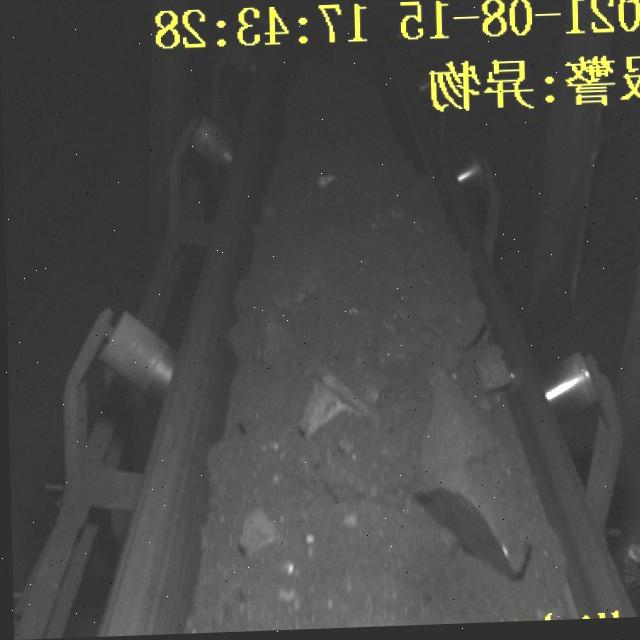large_sized_coal: (421, 387, 530, 582), (296, 371, 368, 434), (235, 503, 277, 557), (253, 318, 300, 366), (473, 350, 509, 398)
